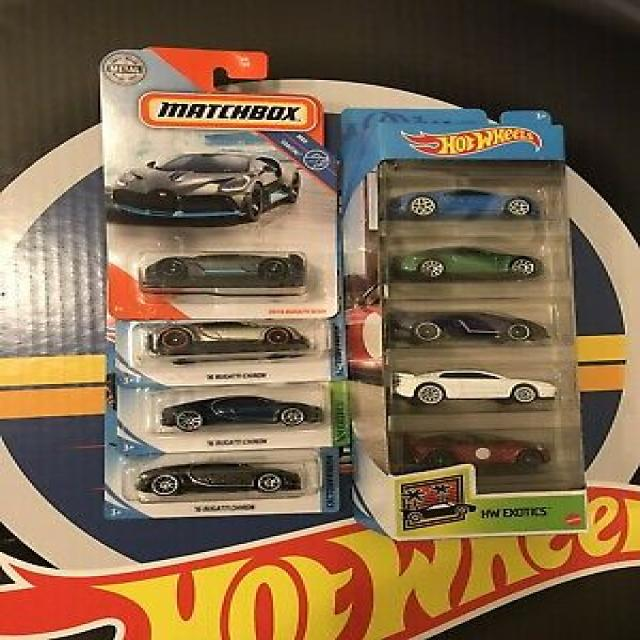Car: (111, 150, 299, 226), (392, 368, 557, 405), (160, 394, 322, 431), (388, 244, 542, 282), (134, 461, 301, 496), (408, 432, 550, 470), (384, 187, 535, 219)
